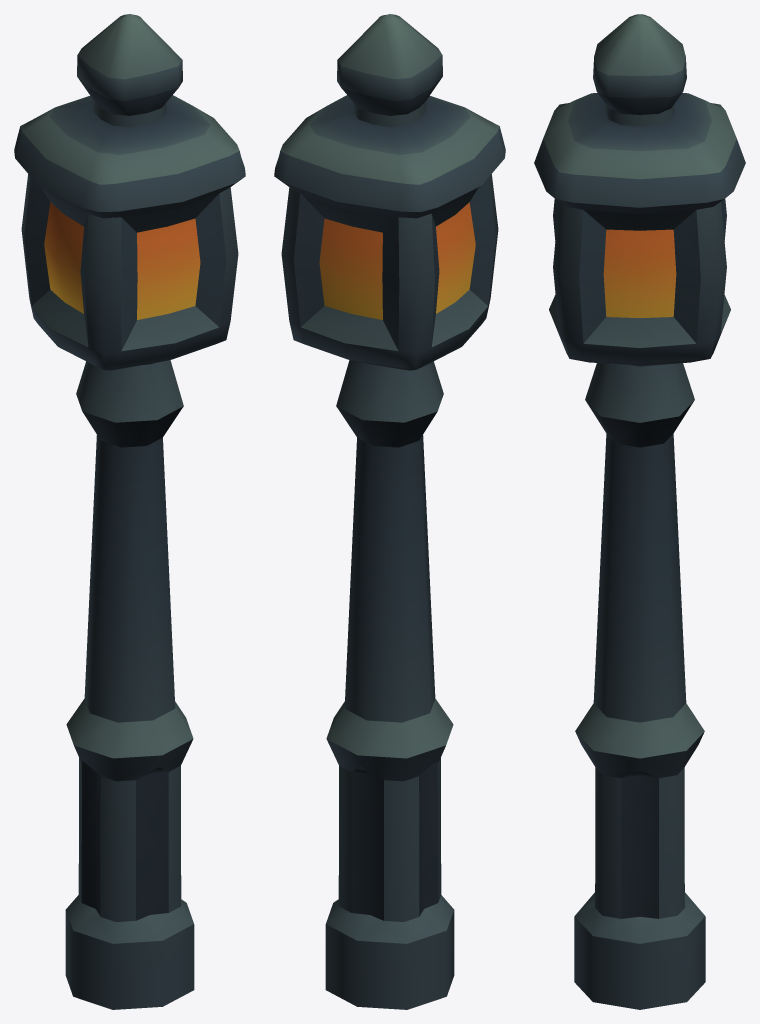
The model's file is lamp_post_LOD_setup.fbx.
The picture shows the model from 3 angles, left to right: view 1: azimuth 30°, elevation 25°; view 2: azimuth 150°, elevation 25°; view 3: azimuth 270°, elevation 25°; orthographic projection.
Parts seen in each view (by area): view 1: lamp_post_LOD0; view 2: lamp_post_LOD0; view 3: lamp_post_LOD0.
Part boxes in pixels (x1,y1,x2,y2): lamp_post_LOD0: (14,14,245,1009); lamp_post_LOD0: (274,14,505,1009); lamp_post_LOD0: (534,14,745,1009).
Size of what is drawn, in the model's own units: 63.29 by 319 by 63.29.
